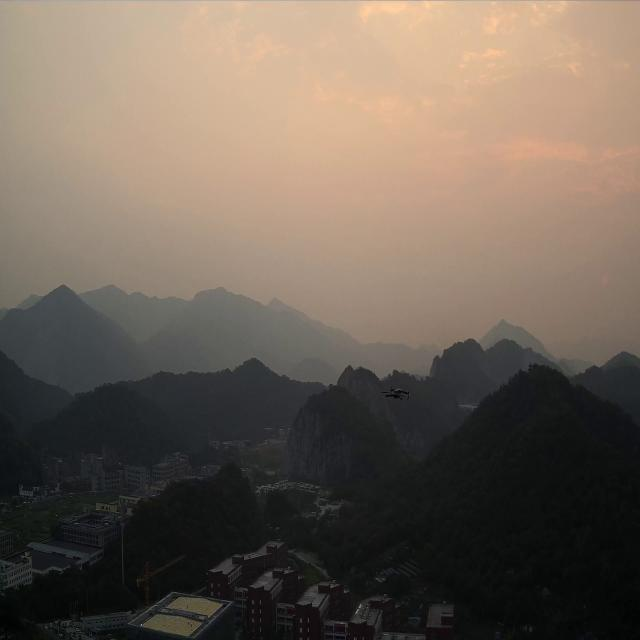UAV: (380, 386, 409, 400)
